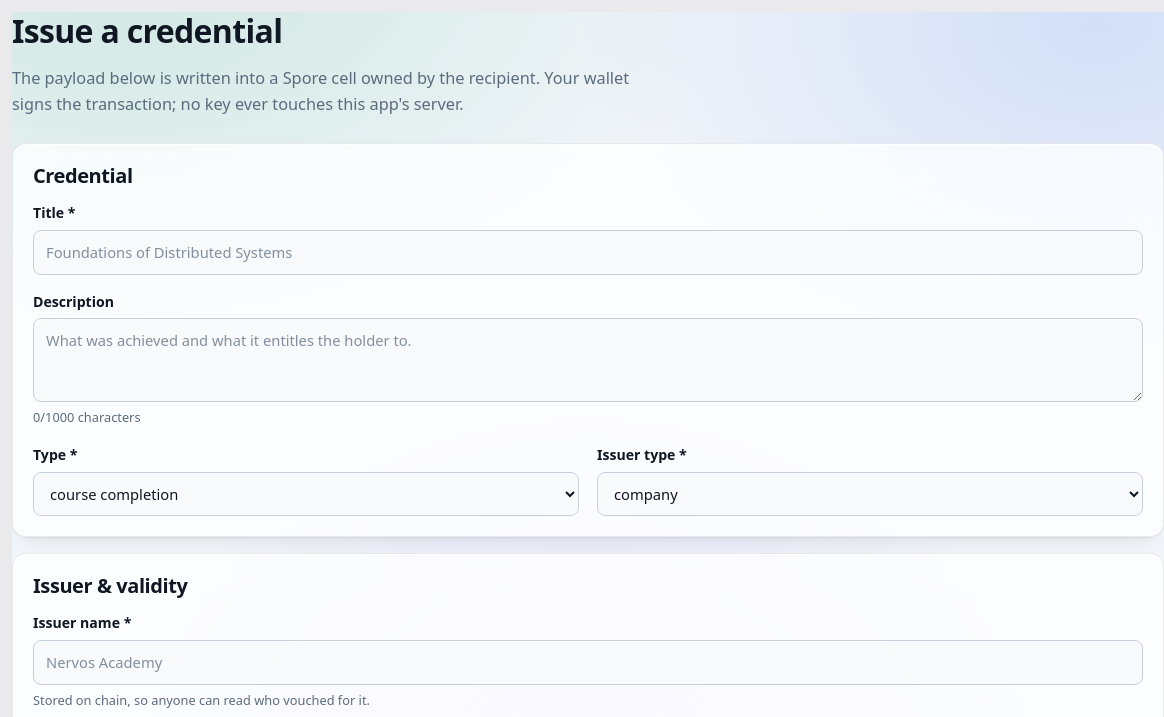
Scenario: IssuePage profile prefill › never overwrites an issuer name the user typed before signing in
Type "Typing Academy" into the field labelled "Issuer name *" at (588, 662), box [33,640,1143,685]
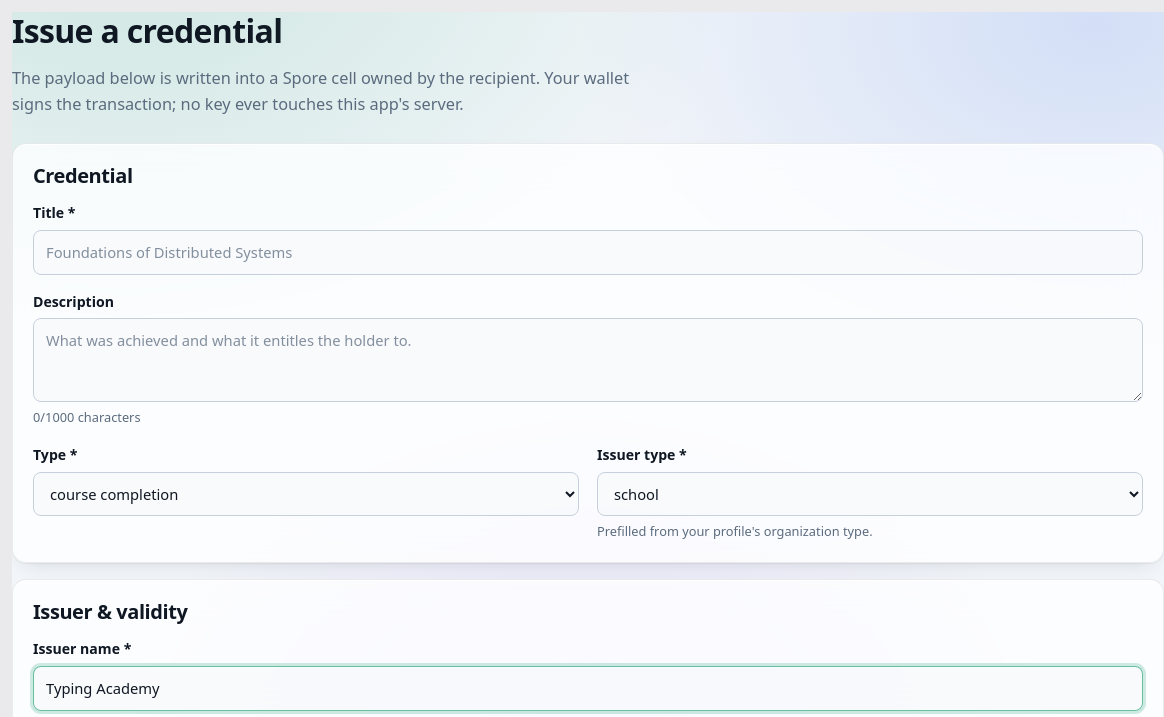
Result: the text "Prefilled from your profile's organization type." is shown at [597,522,873,540]
